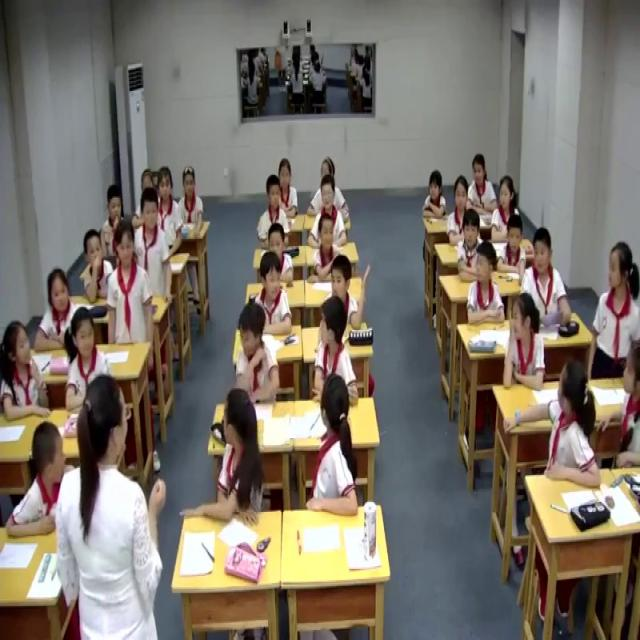distracted: (539, 357, 600, 489), (306, 376, 360, 520), (6, 420, 70, 540), (213, 391, 265, 523), (594, 240, 640, 376), (313, 293, 361, 409), (0, 320, 50, 423), (235, 298, 278, 411), (504, 295, 547, 393), (253, 251, 294, 343), (615, 341, 640, 471), (467, 242, 504, 326)
focused: (107, 222, 153, 354), (523, 221, 572, 331), (65, 309, 112, 413), (135, 189, 173, 305), (37, 268, 87, 356), (78, 228, 117, 304), (156, 168, 185, 262), (311, 215, 349, 284), (492, 172, 526, 248), (310, 180, 346, 248), (446, 176, 477, 252), (456, 206, 486, 282), (468, 158, 500, 228), (258, 177, 288, 250), (261, 221, 294, 285), (496, 215, 528, 278), (103, 187, 130, 257), (178, 167, 204, 238), (275, 158, 301, 220), (423, 168, 448, 224)
raising_hand: (325, 257, 371, 332)
